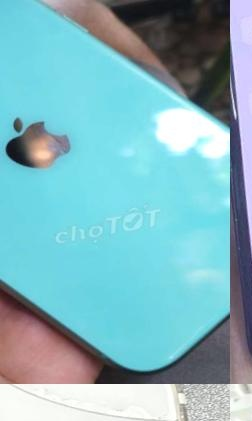physical_damage: (0, 384, 181, 421)
